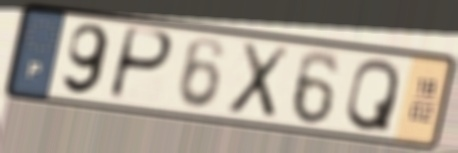6: (291, 48, 342, 128), (176, 35, 227, 113)
9: (60, 21, 112, 98)
P: (105, 24, 177, 105)
Q: (342, 56, 403, 134)
X: (223, 39, 294, 121)
